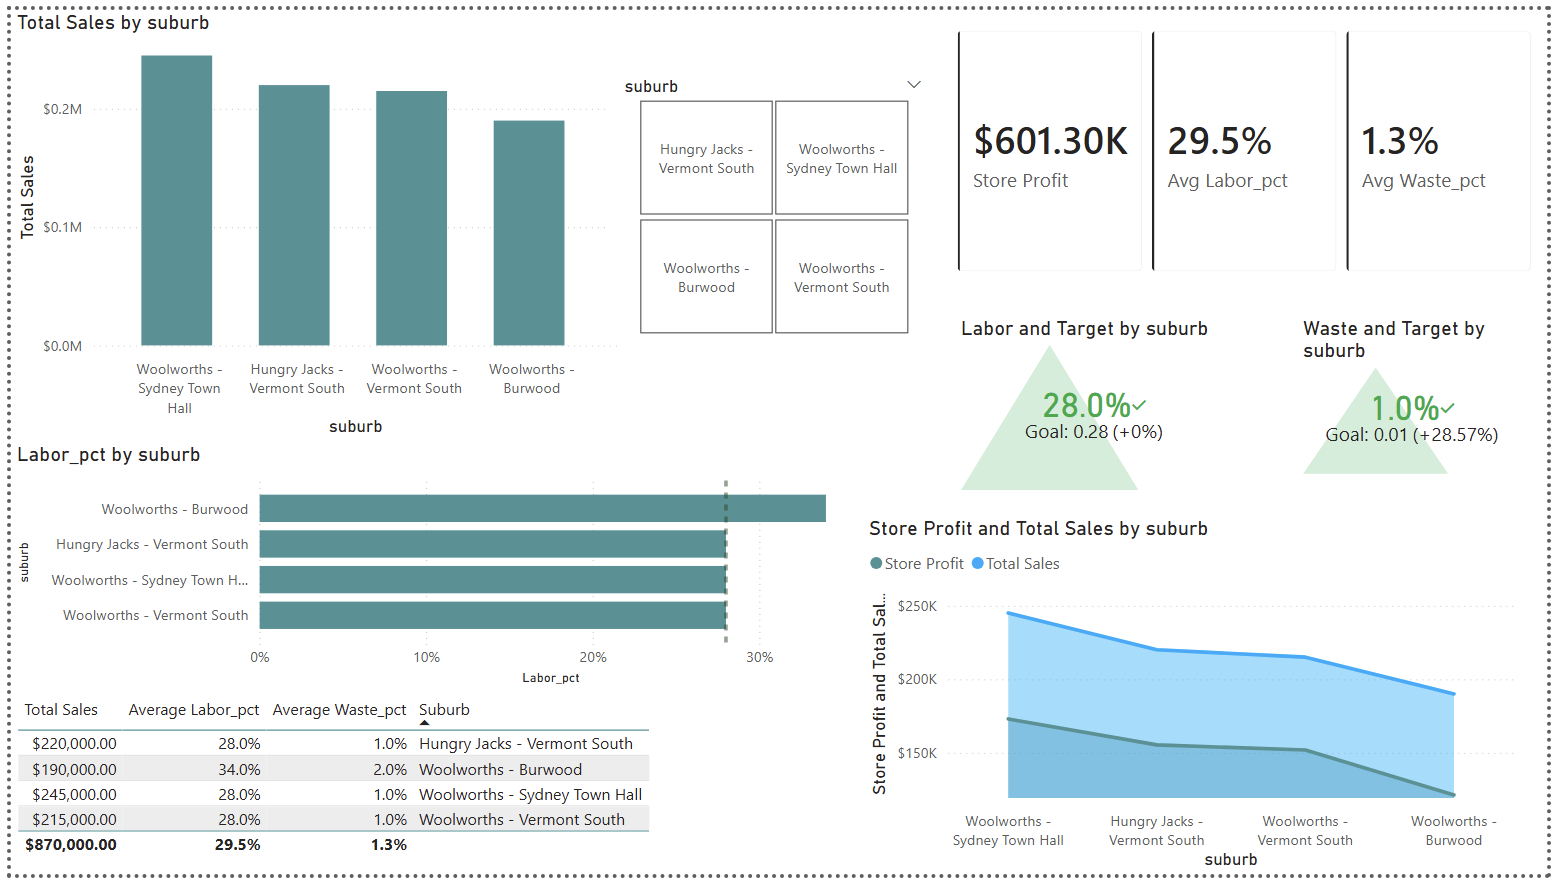

Layout of this report page (visuals, bound fields, positions):
{"tool":"powerbi","page":{"name":"Page 1","canvas":[1280,720],"ordinal":0},"visuals":[{"type":"clusteredColumnChart","fields":{"Category":["Store_Performance_Data copy.suburb"],"Y":["Sum(Store_Performance_Data copy.total_sales_aud)"]},"box":[0,0,510,360],"z":0},{"type":"clusteredBarChart","fields":{"Category":["Store_Performance_Data copy.suburb"],"Y":["Avg(Store_Performance_Data copy.labor_pct)"]},"box":[0,360,710,206.7],"z":1000},{"type":"tableEx","fields":{"Values":["Sum(Store_Performance_Data copy.total_sales_aud)","Avg(Store_Performance_Data copy.labor_pct)","Avg(Store_Performance_Data copy.waste_pct)","Store_Performance_Data copy.suburb"]},"box":[0,566.7,590,153.3],"z":1001},{"type":"cardVisual","fields":{"Data":["Store_Performance_Data copy.Store Profit","Avg(Store_Performance_Data copy.labor_pct)","Avg(Store_Performance_Data copy.waste_pct)"]},"box":[771.7,0,513.3,235],"z":1002},{"type":"kpi","fields":{"Indicator":["Avg(Store_Performance_Data copy.labor_pct)"],"TrendLine":["Store_Performance_Data copy.suburb"],"Goal":["Store_Performance_Data copy.Labor Target"]},"box":[786.7,255,231.7,150],"z":1003},{"type":"kpi","fields":{"Indicator":["Avg(Store_Performance_Data copy.waste_pct)"],"TrendLine":["Store_Performance_Data copy.suburb"],"Goal":["Store_Performance_Data copy.Waste Target"]},"box":[1071.7,255,191.7,136.7],"z":1004},{"type":"areaChart","fields":{"Category":["Store_Performance_Data copy.suburb"],"Y":["Store_Performance_Data copy.Store Profit","Sum(Store_Performance_Data copy.total_sales_aud)"]},"box":[710,421.7,555,298.3],"z":1005},{"type":"slicer","fields":{"Values":["Store_Performance_Data copy.suburb"]},"box":[498.3,50,273.3,226.7],"z":1006}]}

Visuals, with their boxes in screenshot pixels (x1, y1, x2, y2), scaled from the page's 1280x720 canvas onto the 1556x890 screenshot:
clusteredColumnChart - Store_Performance_Data copy.suburb x Sum(Store_Performance_Data copy.total_sales_aud): (0,0,620,445)
clusteredBarChart - Store_Performance_Data copy.suburb x Avg(Store_Performance_Data copy.labor_pct): (0,445,863,701)
tableEx - Sum(Store_Performance_Data copy.total_sales_aud) x Avg(Store_Performance_Data copy.labor_pct): (0,701,717,889)
cardVisual - Store_Performance_Data copy.Store Profit x Avg(Store_Performance_Data copy.labor_pct): (938,0,1555,290)
kpi - Avg(Store_Performance_Data copy.labor_pct) x Store_Performance_Data copy.suburb: (956,315,1238,501)
kpi - Avg(Store_Performance_Data copy.waste_pct) x Store_Performance_Data copy.suburb: (1303,315,1536,484)
areaChart - Store_Performance_Data copy.suburb x Store_Performance_Data copy.Store Profit: (863,521,1538,889)
slicer - Store_Performance_Data copy.suburb: (606,62,938,342)
